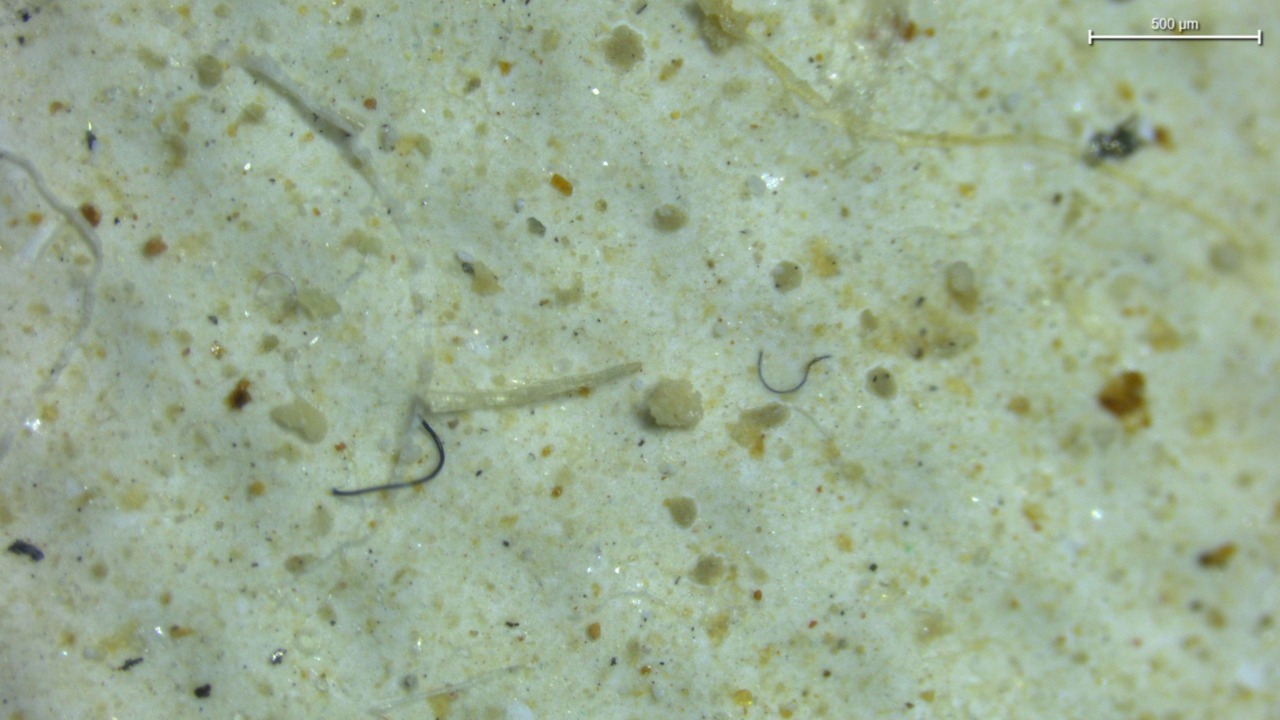microplastic_fragment: (645, 380, 703, 428), (270, 399, 328, 443)
